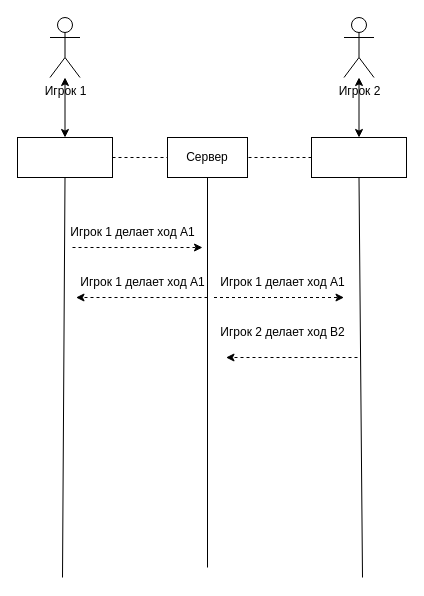
Some shapes in this 424 by 596 pixel diagram are drawn without their labels. The shapes that lost their labels are listed below. From the top down, each one's centre as x and y in pixels, then its label:
At (64,157): "Клиент 1".
At (358,157): "Клиент 2".
